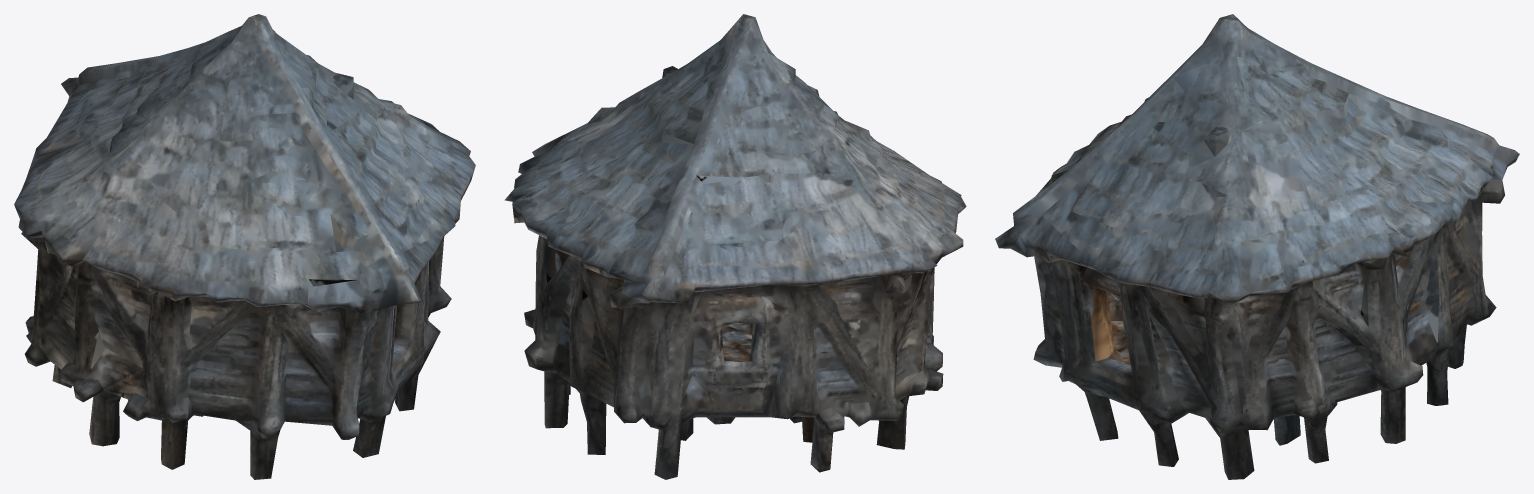
The model's file is hut.glb.
3 views of the same model, side by side, from view 1: azimuth 30°, elevation 25°; view 2: azimuth 150°, elevation 25°; view 3: azimuth 270°, elevation 25° (orthographic).
Parts seen in each view (by area): view 1: low; view 2: low; view 3: low.
Boxes of the visible parts, x1,y1,x2,y2 form: low: [14, 14, 475, 479]; low: [504, 14, 966, 479]; low: [995, 14, 1519, 479].
Bounding box in the file's own units: 7.29 × 6.69 × 8.
1 material, 1 textured.
